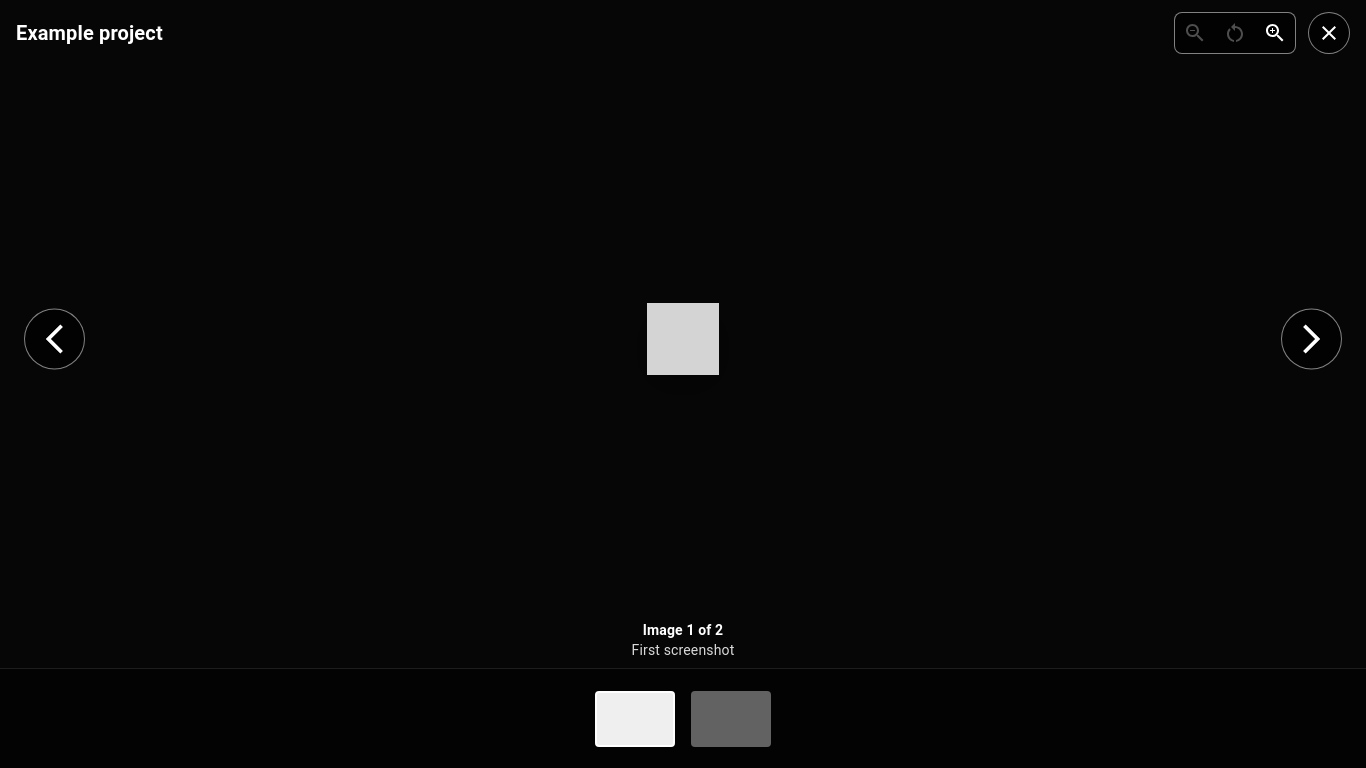
Test: ProjectGallery › reveals the loaded image and enables zoom without moving focus
The width and height of the screenshot is (1366, 768).
Click the button named "Zoom in". click: (1275, 33)
box: [1255,13,1295,53]
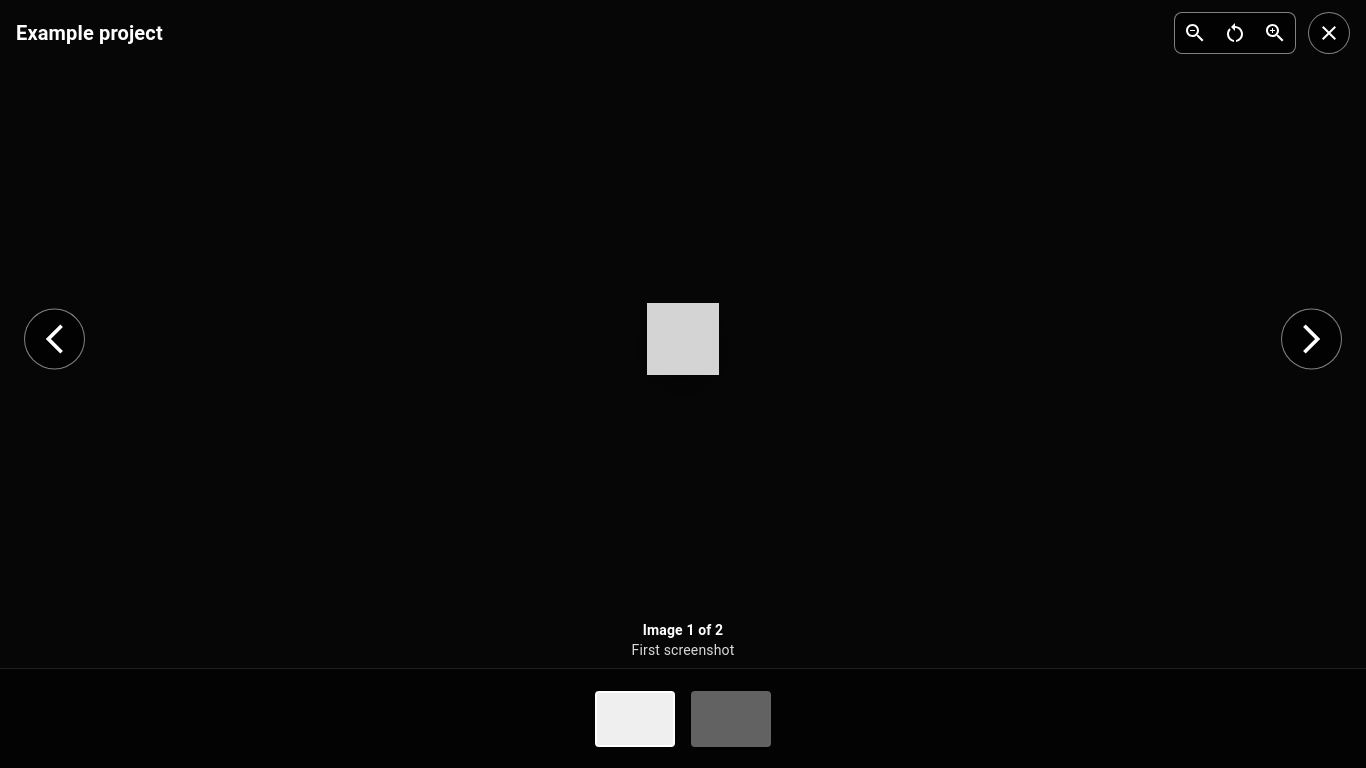
Expected: the button named "Reset zoom" is enabled, [1215,13,1255,53]
